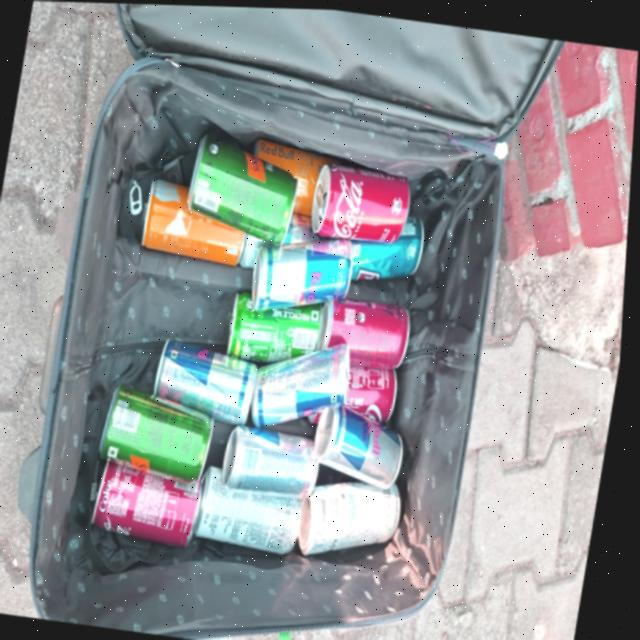Coca Cola: (317, 156, 416, 243), (97, 474, 207, 550), (346, 366, 402, 422)
Coca Cola Zero: (323, 295, 416, 369)
Redbul: (256, 334, 353, 432), (256, 231, 354, 311), (230, 422, 327, 494), (324, 405, 409, 487), (159, 347, 259, 414)
Redbull Yellow Edition: (141, 175, 250, 262), (259, 136, 327, 216)
Schweppes: (181, 128, 302, 245), (102, 383, 219, 484)
Sprite: (231, 294, 326, 365)
Thums Up: (349, 209, 430, 290)
White Monster: (307, 464, 409, 568), (201, 474, 312, 555)
